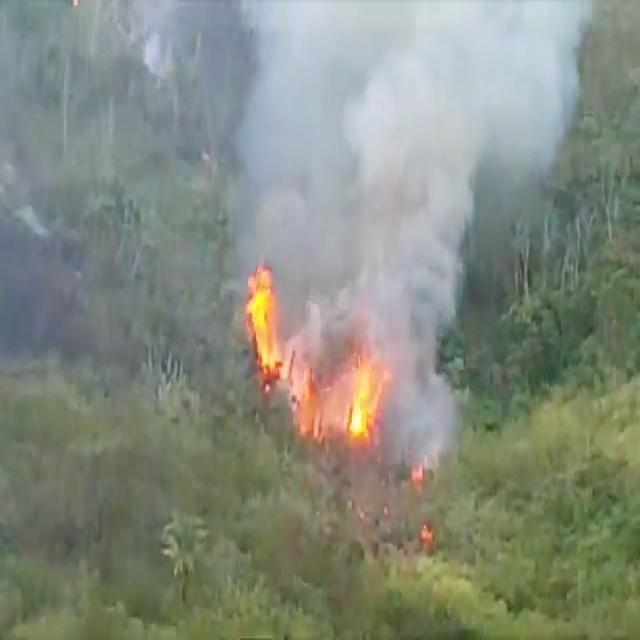Fire: (230, 242, 386, 458), (403, 455, 423, 501), (414, 528, 442, 555)
Smoke: (236, 142, 487, 354), (225, 5, 571, 158), (372, 346, 456, 474)
